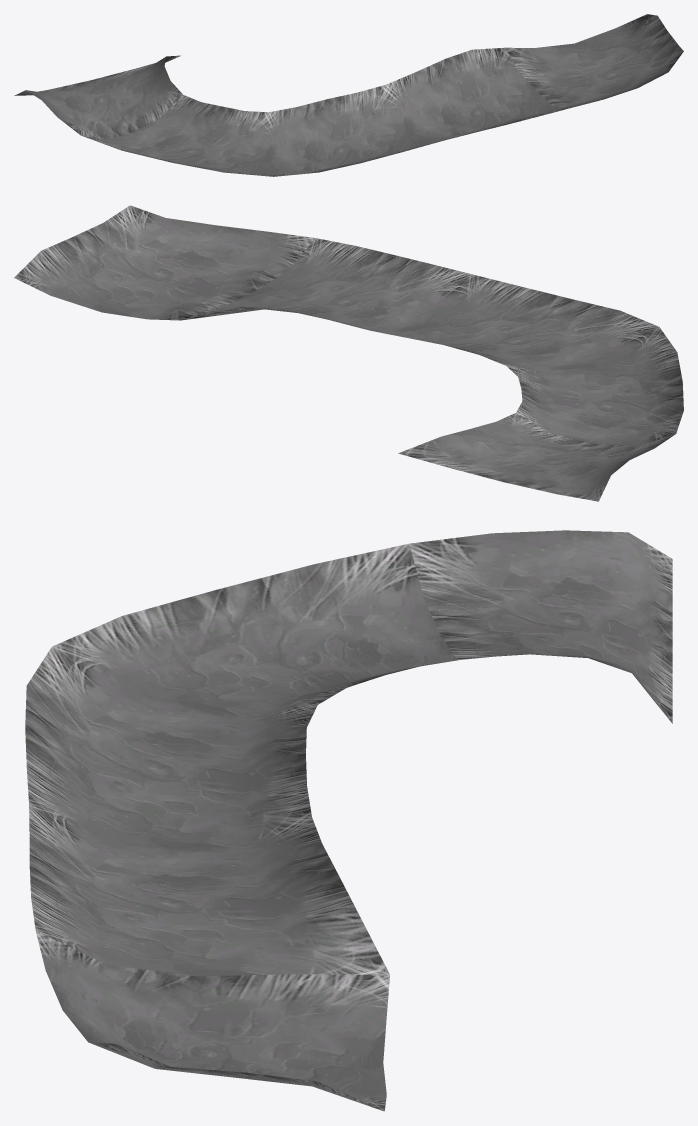
The model's file is SWORDLIGHT20_PS-AREA01_11.fbx.
3 renders of one model, top to bottom at view 1: azimuth 30°, elevation 25°; view 2: azimuth 150°, elevation 25°; view 3: azimuth 270°, elevation 25°, orthographic. The views are drawn at different scales.
Parts seen in each view (by area): view 1: SWORDLIGHT20_PS-AREA01_11; view 2: SWORDLIGHT20_PS-AREA01_11; view 3: SWORDLIGHT20_PS-AREA01_11.
Part boxes in pixels (x1,y1,x2,y2): SWORDLIGHT20_PS-AREA01_11: [14, 14, 683, 176]; SWORDLIGHT20_PS-AREA01_11: [14, 205, 683, 501]; SWORDLIGHT20_PS-AREA01_11: [25, 530, 672, 1111].
Bounding box in the file's own units: 173545 × 9072 × 86434.
2 materials, 2 textured.
